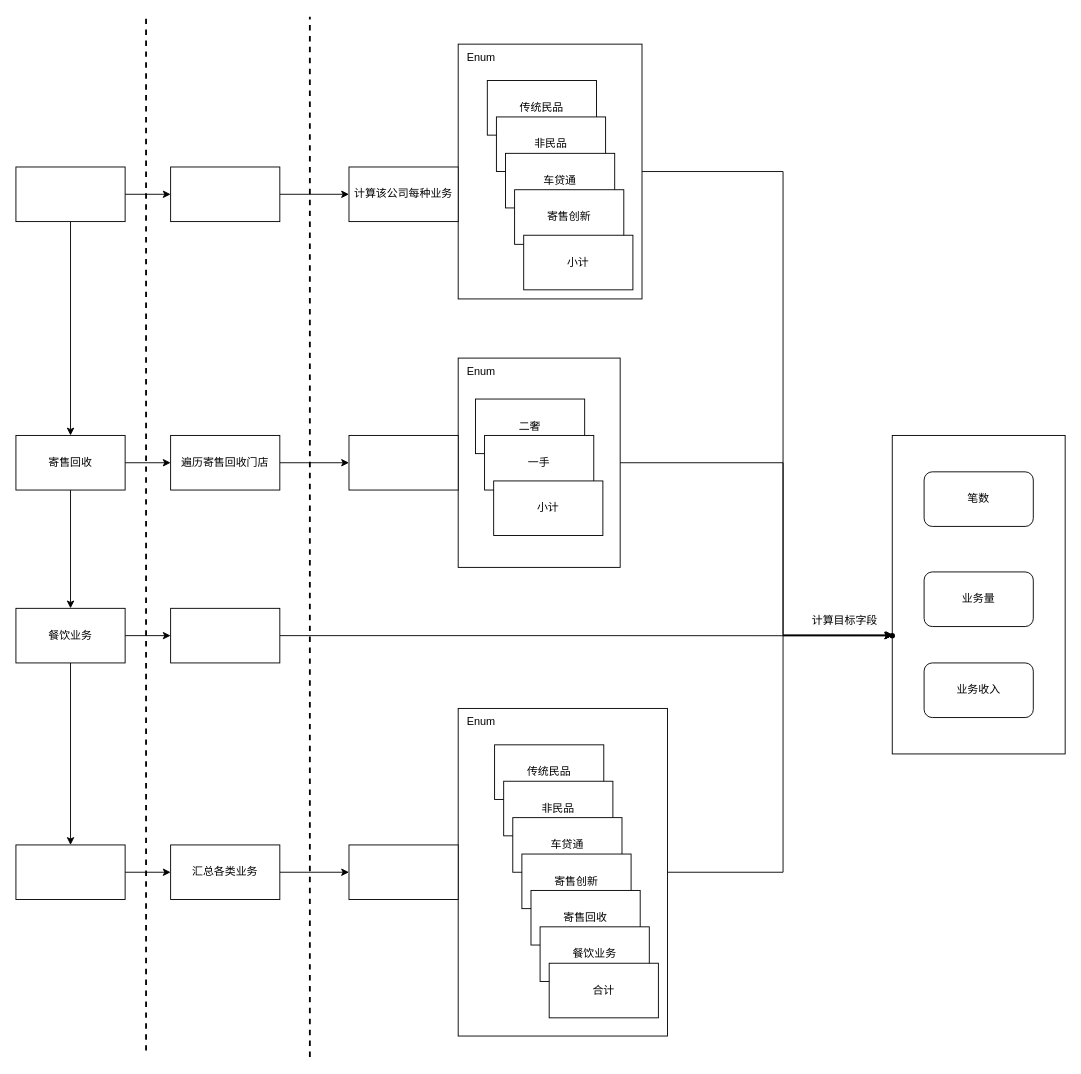
The diagram is 1081 pixels wide and 1074 high, and some of its shapes have lost their labels. Here are the shapes that lost their labels. From the top down, the centre of each, then its label:
(x=70, y=194): 典当、寄售创新
(x=225, y=194): 遍历典当 分公司
(x=403, y=462): 计算该门店每种业务
(x=225, y=635): 遍历所有餐饮门店
(x=70, y=872): 汇总
(x=403, y=872): 计算汇总各类业务
